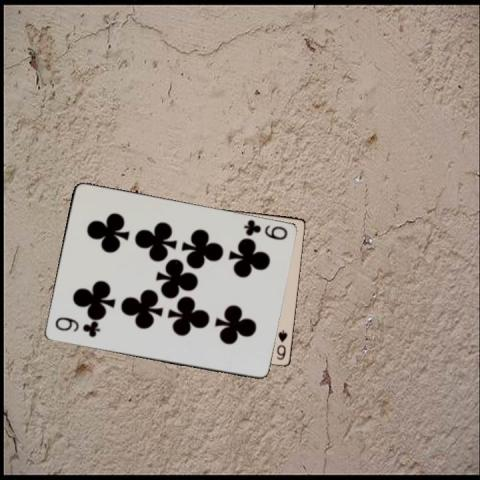6s: (273, 326, 289, 360)
9c: (240, 217, 289, 242), (51, 316, 102, 340)
